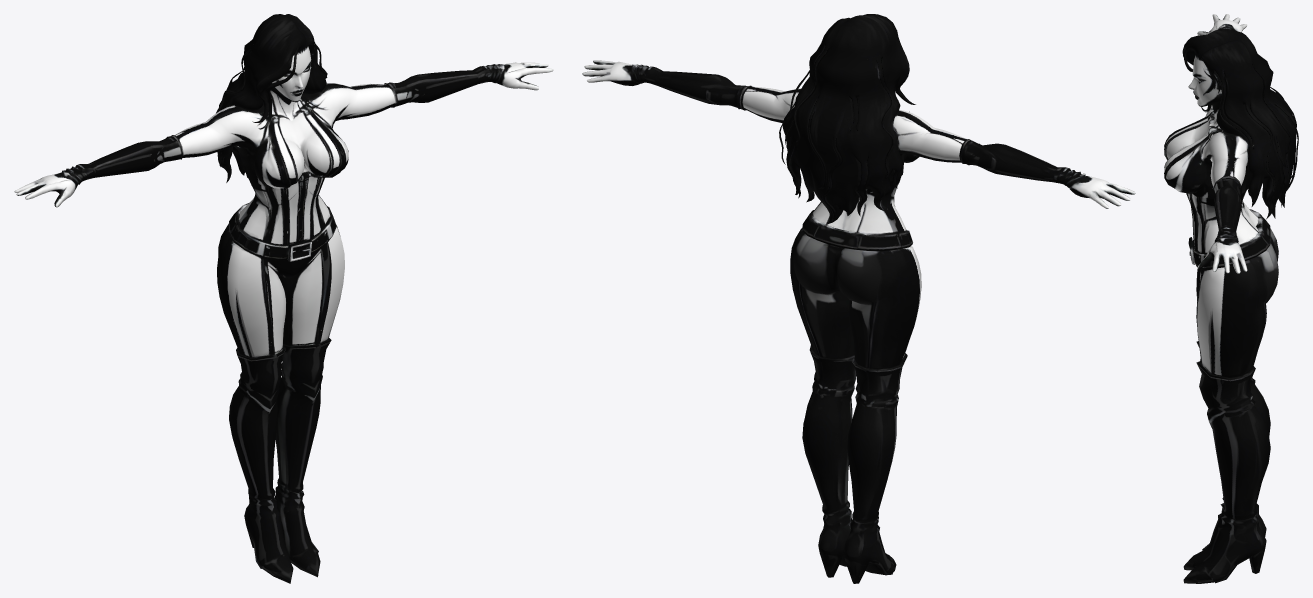
Rendered from vampirezako1.fbx.
3 renders of one model, left to right at view 1: azimuth 30°, elevation 25°; view 2: azimuth 150°, elevation 25°; view 3: azimuth 270°, elevation 25°, orthographic. The views are drawn at different scales.
Parts seen in each view (by area): view 1: tripo_6e755ee9_3560_40b3_8e44_2079713f47bc; view 2: tripo_6e755ee9_3560_40b3_8e44_2079713f47bc; view 3: tripo_6e755ee9_3560_40b3_8e44_2079713f47bc.
Part boxes in pixels (x1=…): tripo_6e755ee9_3560_40b3_8e44_2079713f47bc: x1=14, y1=14, x2=553, y2=583; tripo_6e755ee9_3560_40b3_8e44_2079713f47bc: x1=582, y1=14, x2=1135, y2=583; tripo_6e755ee9_3560_40b3_8e44_2079713f47bc: x1=1164, y1=14, x2=1298, y2=583.
Size of the model in its own units: 0.9995 by 0.9829 by 0.2202.
1 material, 1 textured.
